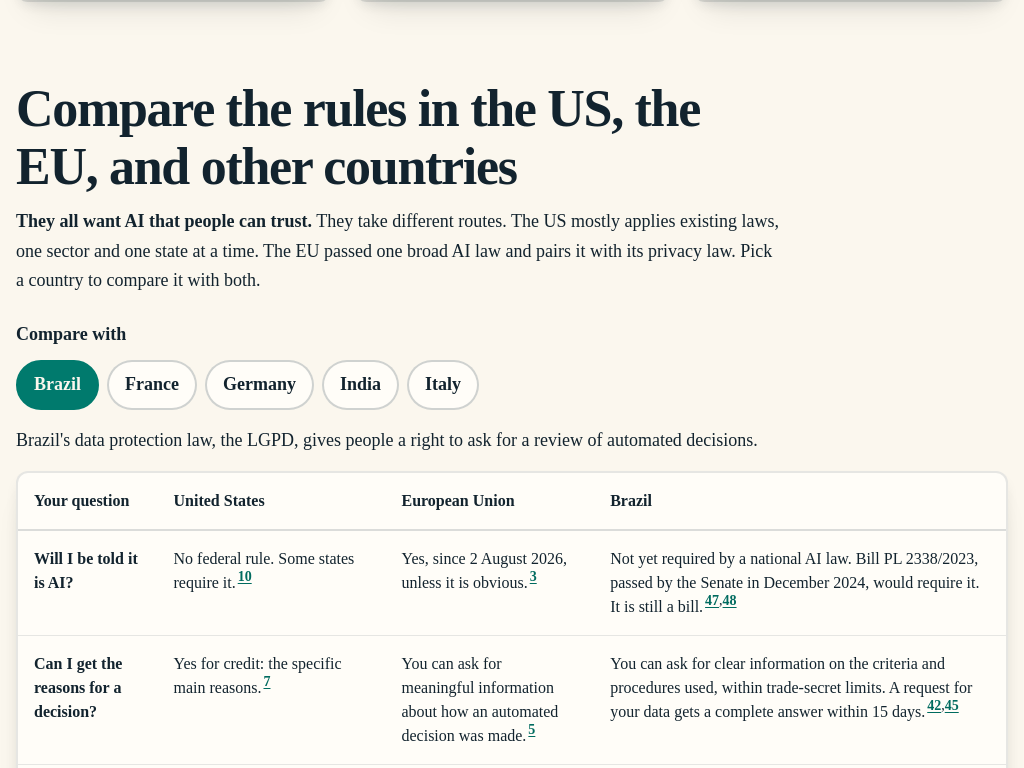
Test case: Guide page › always shows the US and the EU, plus one country the visitor picks
(page scrolled)
Expected: the column headings read "Your question", "United States", "European Union", "Brazil", in this order, [18,473,158,530]; [158,473,386,530]; [386,473,594,530]; [594,473,1006,530]
Expected: the radio button labelled "Brazil" is checked, [16,360,99,410]
Click the radio button labelled "Italy". click: (443, 385)
box: [407,360,479,410]
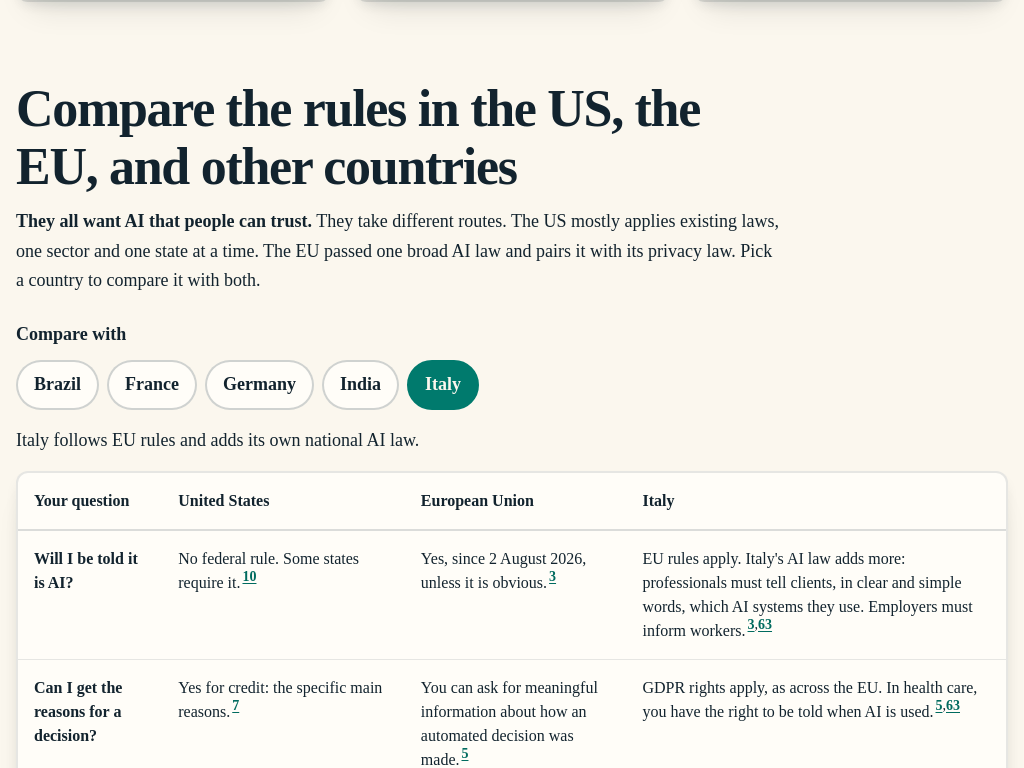
Now the column heading "Italy" is shown, box [626,473,1006,530]
Now the text "Italy follows EU rules and adds its own national AI law." is shown, box [16,430,419,450]
